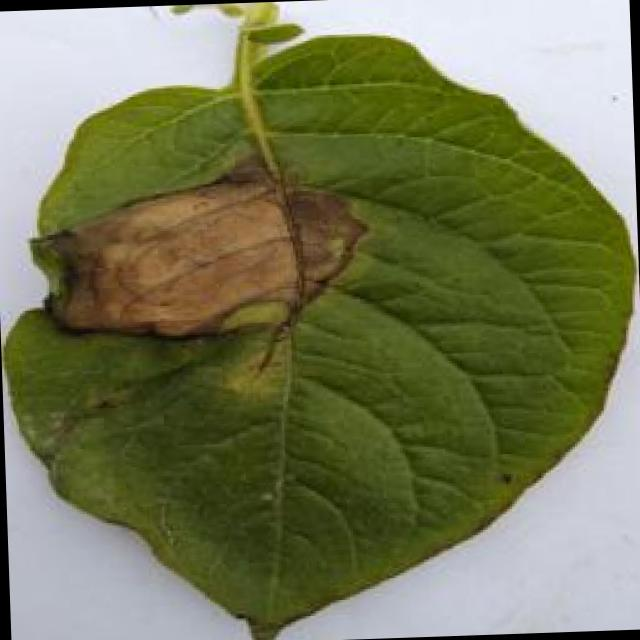Potato_Late_Blight: (0, 12, 635, 640)
